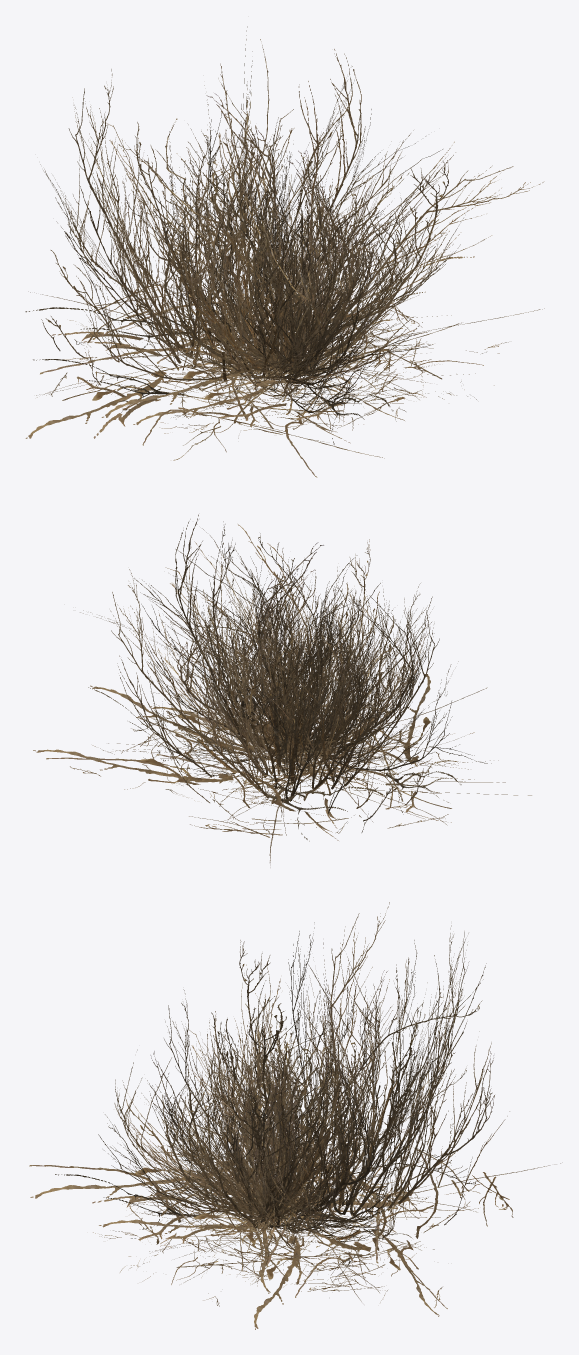
Rendered from vdknafgha_tier_2_nonUE.gltf.
3 renders of one model, top to bottom at view 1: azimuth 30°, elevation 25°; view 2: azimuth 150°, elevation 25°; view 3: azimuth 270°, elevation 25°, orthographic. The views are drawn at different scales.
Visible parts, largest first — view 1: SM_vdknafgha_VarG, SM_vdknafgha_VarC, SM_vdknafgha_VarE, SM_vdknafgha_VarF, SM_vdknafgha_VarH, SM_vdknafgha_VarD, SM_vdknafgha_VarB; view 2: SM_vdknafgha_VarG, SM_vdknafgha_VarF, SM_vdknafgha_VarC, SM_vdknafgha_VarE, SM_vdknafgha_VarH; view 3: SM_vdknafgha_VarG, SM_vdknafgha_VarC, SM_vdknafgha_VarF, SM_vdknafgha_VarE, SM_vdknafgha_VarH, SM_vdknafgha_VarD.
Part boxes in pixels (x1,y1,x2,y2): SM_vdknafgha_VarG: [25, 26, 544, 477]; SM_vdknafgha_VarC: [63, 131, 508, 438]; SM_vdknafgha_VarE: [77, 159, 483, 460]; SM_vdknafgha_VarF: [149, 112, 494, 432]; SM_vdknafgha_VarH: [144, 103, 544, 432]; SM_vdknafgha_VarD: [210, 216, 390, 424]; SM_vdknafgha_VarB: [233, 247, 340, 392]; SM_vdknafgha_VarG: [33, 514, 531, 867]; SM_vdknafgha_VarF: [92, 555, 435, 800]; SM_vdknafgha_VarC: [124, 562, 458, 817]; SM_vdknafgha_VarE: [179, 565, 491, 822]; SM_vdknafgha_VarH: [80, 521, 449, 814]; SM_vdknafgha_VarG: [29, 902, 562, 1329]; SM_vdknafgha_VarC: [93, 989, 466, 1306]; SM_vdknafgha_VarF: [122, 964, 426, 1302]; SM_vdknafgha_VarE: [126, 980, 419, 1284]; SM_vdknafgha_VarH: [113, 1003, 438, 1292]; SM_vdknafgha_VarD: [152, 1057, 350, 1256].
Size of what is drawn, in the model's own units: 1.25 by 0.6629 by 1.06.
1 material, 1 textured.
